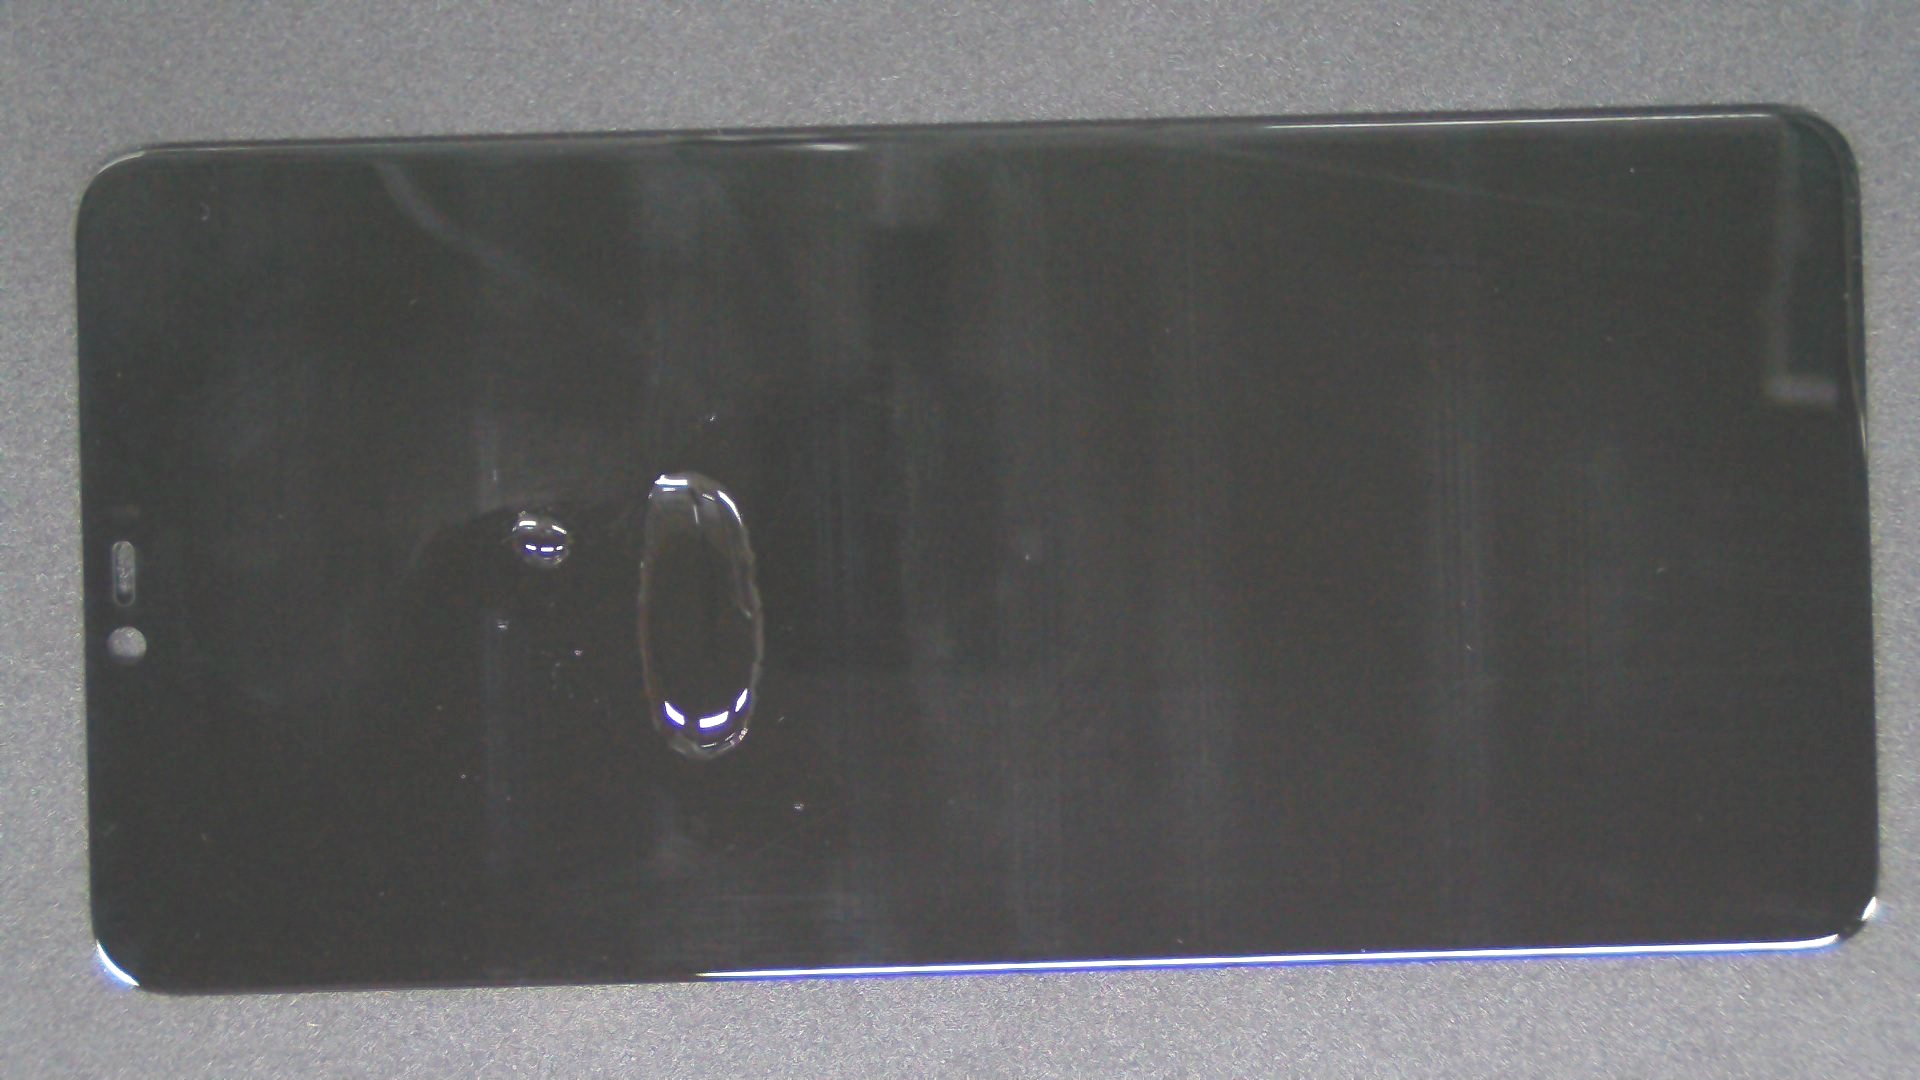oil: (342, 235, 1025, 707), (262, 255, 785, 766)
